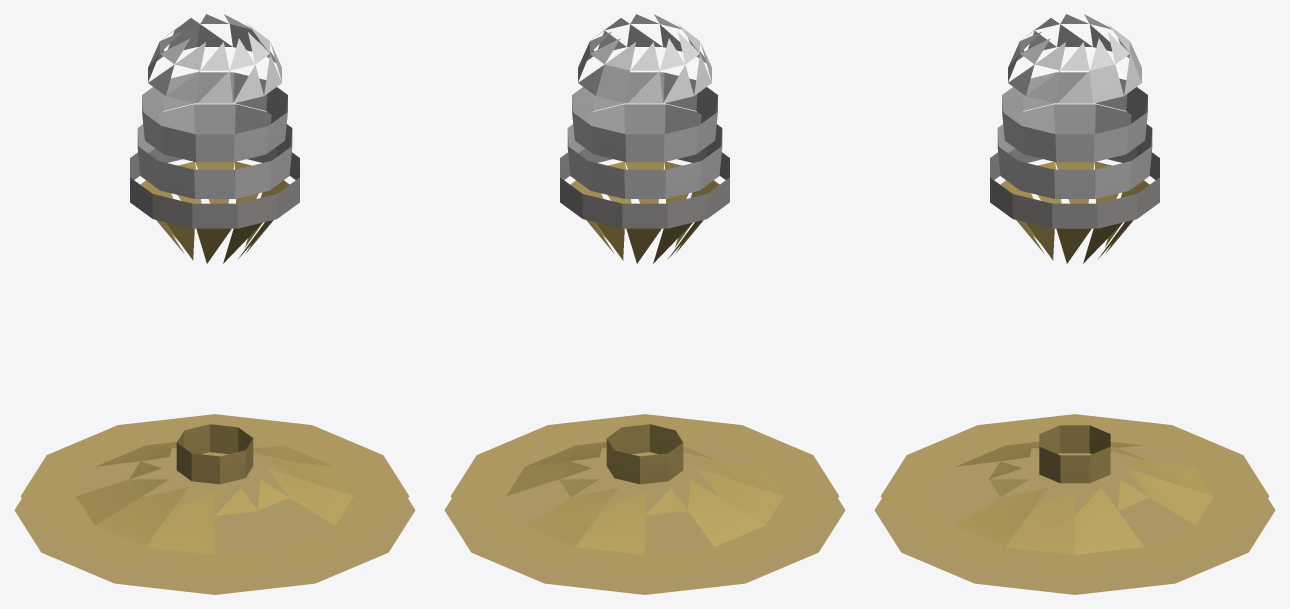
The model's file is edge.lod.glb.
3 renders of one model, left to right at view 1: azimuth 30°, elevation 25°; view 2: azimuth 150°, elevation 25°; view 3: azimuth 270°, elevation 25°, orthographic.
Parts seen in each view (by area): view 1: edge; view 2: edge; view 3: edge.
Boxes of the visible parts, <box> form: edge: <box>14,14,415,594</box>; edge: <box>444,14,845,594</box>; edge: <box>874,14,1275,594</box>.
Size of the model in its own units: 0.364 by 0.483 by 0.364.
